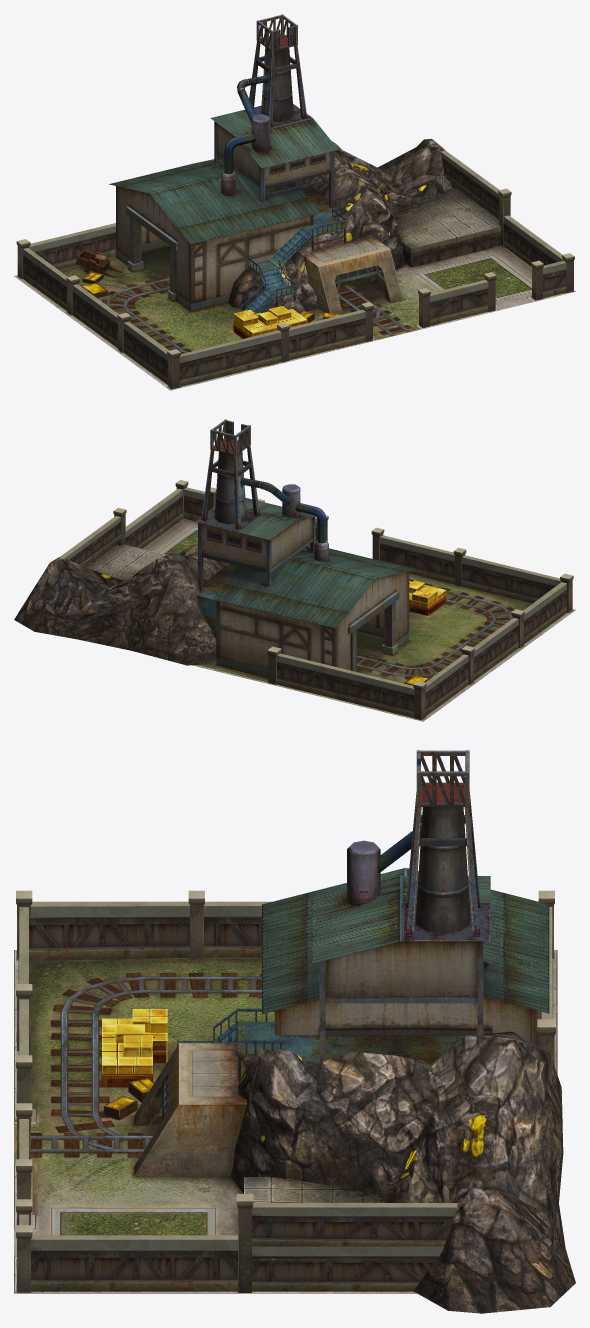
File: Dhz_GoldMine_01.FBX
3 views of the same model, one above another, from view 1: azimuth 30°, elevation 25°; view 2: azimuth 150°, elevation 25°; view 3: azimuth 270°, elevation 25° (orthographic). The views are drawn at different scales.
Visible parts, largest first — view 1: Dhz_GoldMine_01; view 2: Dhz_GoldMine_01; view 3: Dhz_GoldMine_01.
Part boxes in pixels (x1=…): Dhz_GoldMine_01: x1=14, y1=14, x2=575, y2=390; Dhz_GoldMine_01: x1=14, y1=419, x2=575, y2=721; Dhz_GoldMine_01: x1=14, y1=750, x2=575, y2=1313.
Size of the model in its own units: 196 by 99.12 by 128.
